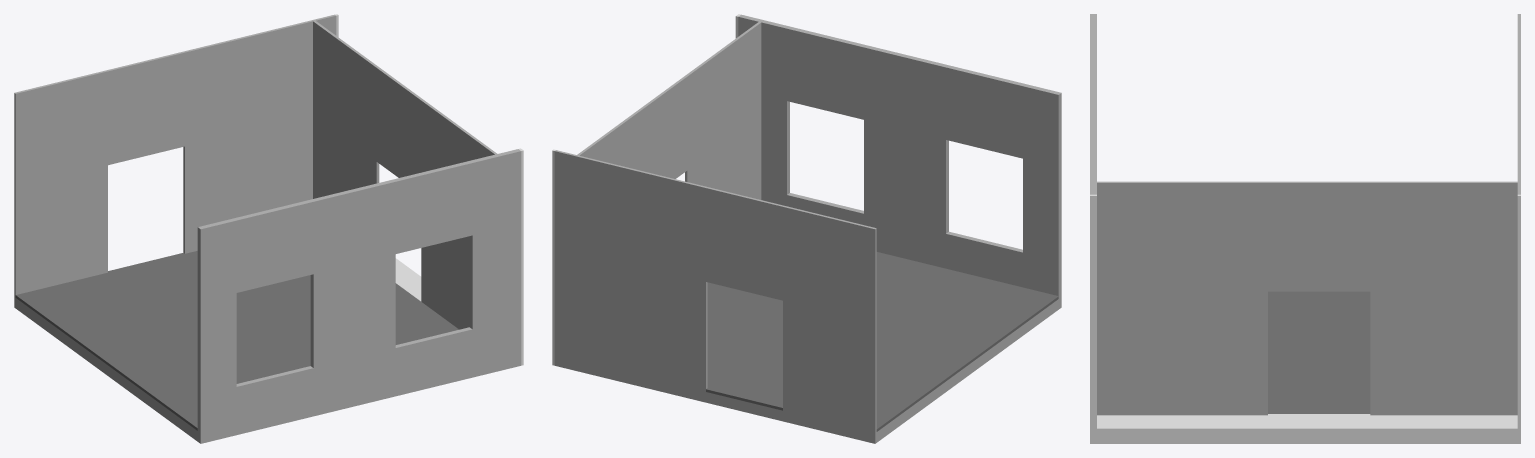
File: 4x2 second-5.obj
3 renders of one model, left to right at view 1: azimuth 30°, elevation 25°; view 2: azimuth 150°, elevation 25°; view 3: azimuth 270°, elevation 25°, orthographic. The views are drawn at different scales.
Parts seen in each view (by area): view 1: 4x2 second-5; view 2: 4x2 second-5; view 3: 4x2 second-5.
Part boxes in pixels (box(x1,y1,x2,y2)): 4x2 second-5: box(14, 14, 523, 443); 4x2 second-5: box(552, 14, 1061, 443); 4x2 second-5: box(1090, 14, 1520, 443).
Size of the model in its own units: 126 by 80 by 126.
1 material, 1 textured.
